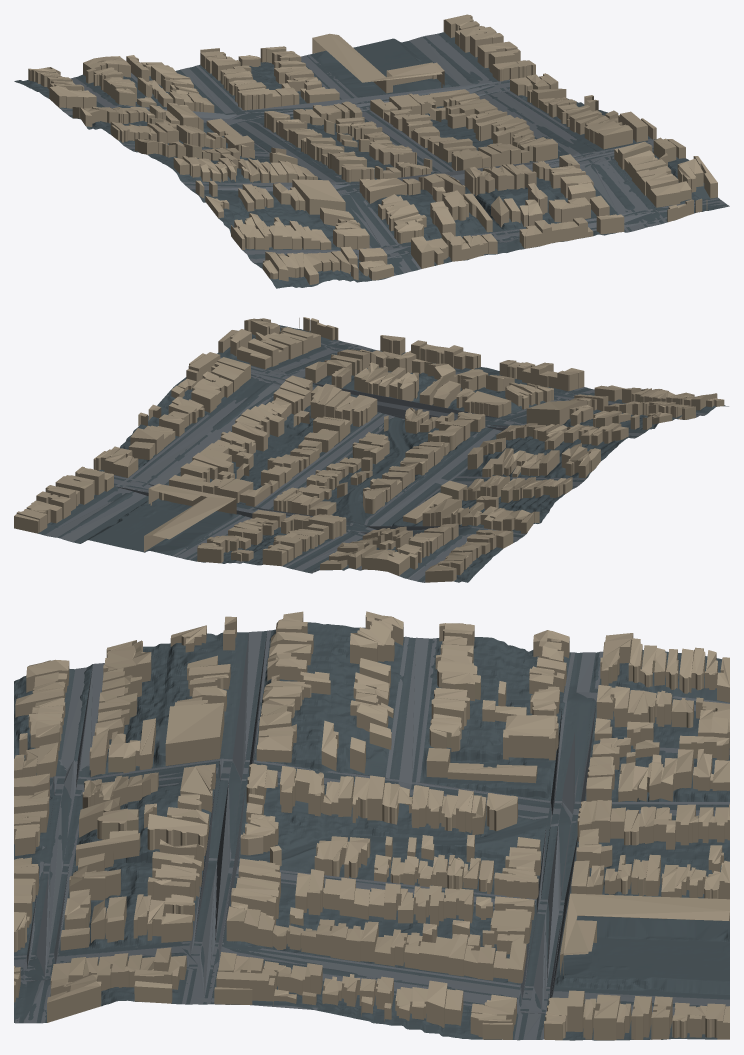
The model's file is epsg26910-1433-10882.lod0.glb.
The picture shows the model from 3 angles, top to bottom: view 1: azimuth 30°, elevation 25°; view 2: azimuth 150°, elevation 25°; view 3: azimuth 270°, elevation 25°; orthographic projection. The views are drawn at different scales.
Visible parts, largest first — view 1: epsg26910-1433-10882-lod0; view 2: epsg26910-1433-10882-lod0; view 3: epsg26910-1433-10882-lod0.
Boxes of the visible parts, x1,y1,x2,y2 form: epsg26910-1433-10882-lod0: (14,14,729,288); epsg26910-1433-10882-lod0: (14,317,728,582); epsg26910-1433-10882-lod0: (14,611,729,1040).
Bounding box in the file's own units: 384 × 76.25 × 384.
